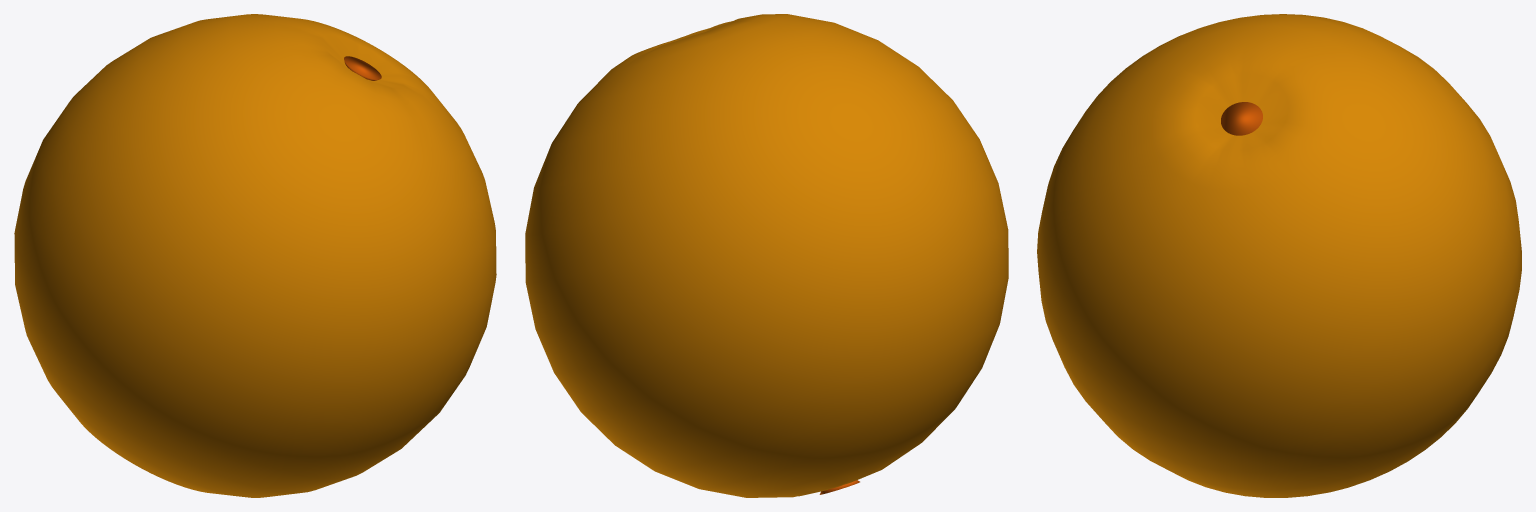
Rendered from fruit_04.dae.
The picture shows the model from 3 angles, left to right: view 1: azimuth 30°, elevation 25°; view 2: azimuth 150°, elevation 25°; view 3: azimuth 270°, elevation 25°; orthographic projection.
Visible parts, largest first — view 1: Sphere_004; view 2: Sphere_004; view 3: Sphere_004.
Boxes of the visible parts, x1,y1,x2,y2 form: Sphere_004: (14, 14, 496, 497); Sphere_004: (525, 14, 1008, 497); Sphere_004: (1037, 14, 1521, 497).
Bounding box in the file's own units: 2 × 2 × 1.99.
